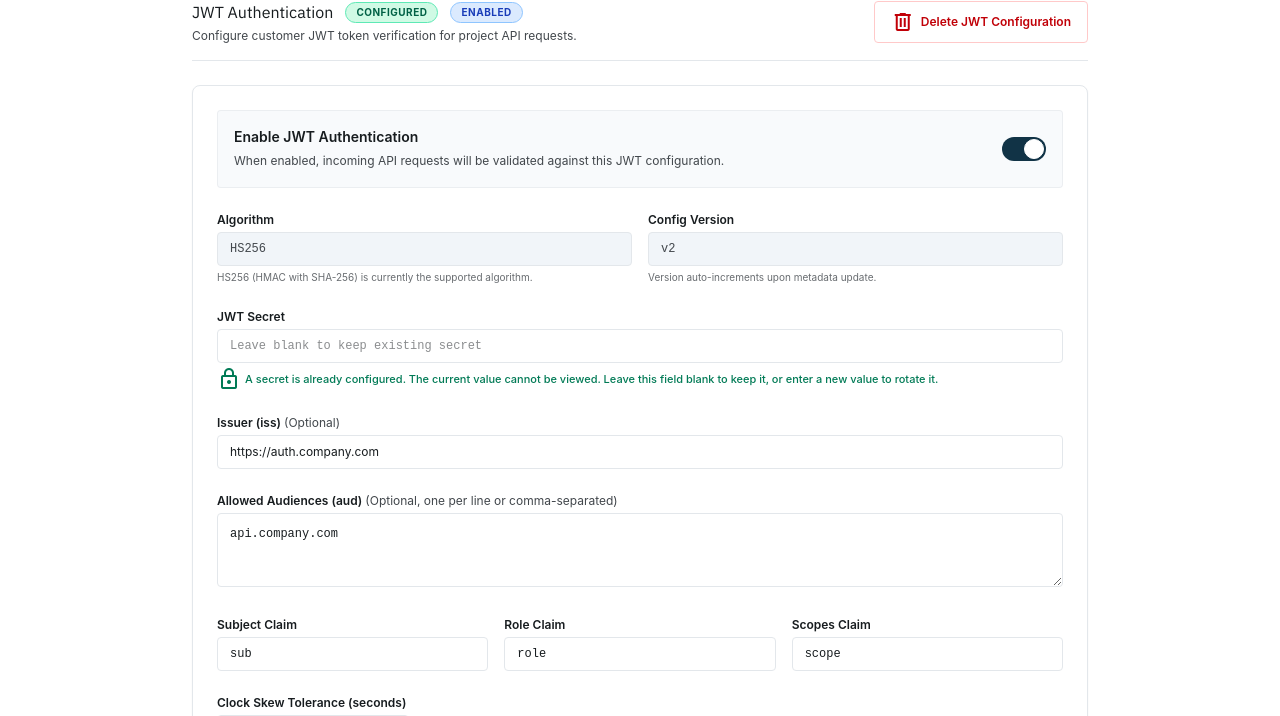
Test: ProjectJwtSecurityPage › 8. Secret input is cleared after successful save
The image size is (1280, 716).
expect the field showing "https://auth.company.com" is shown: met, box [217,435,1063,469]
Type "this-is-a-new-test-secret-at-least-32-bytes-long" into the password field labelled "JWT Secret".
click(640, 346); type("this-is-a-new-test-secret-at-least-32-bytes-long")  # box [217,329,1063,363]
(page scrolled)
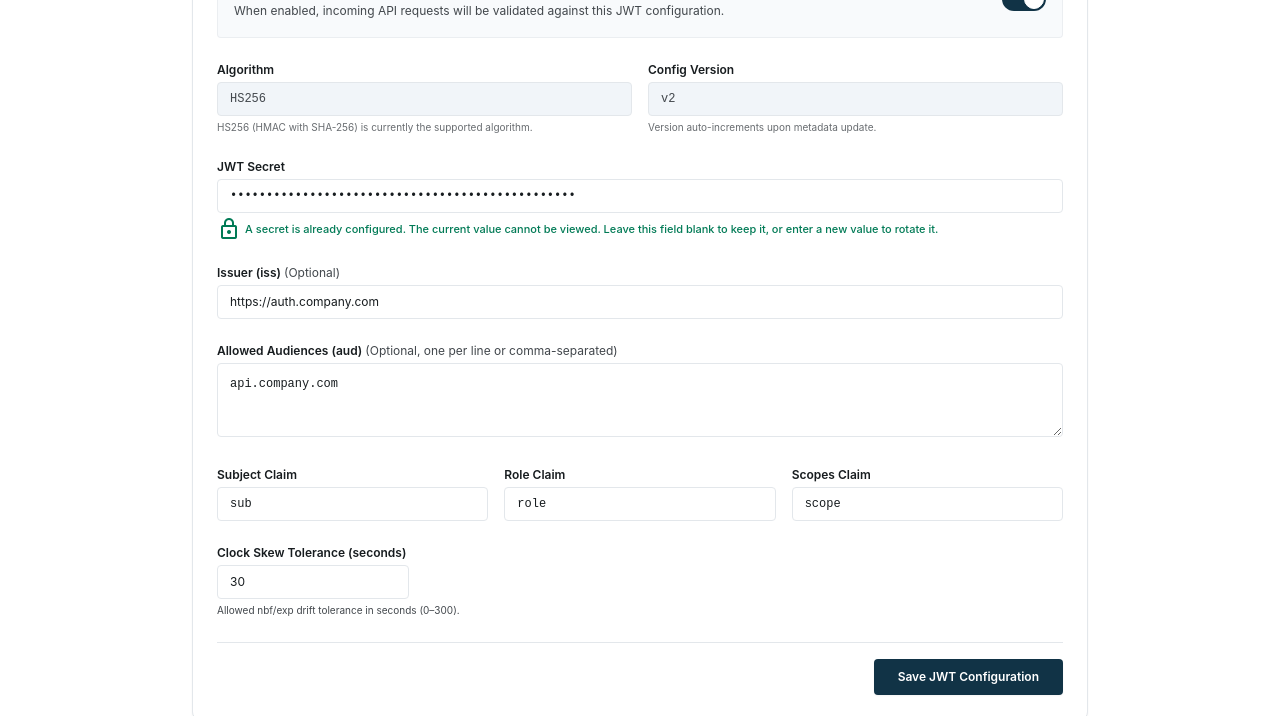
Click the button "Save JWT Configuration".
click(968, 677)  # box [874,659,1063,695]
(page scrolled)
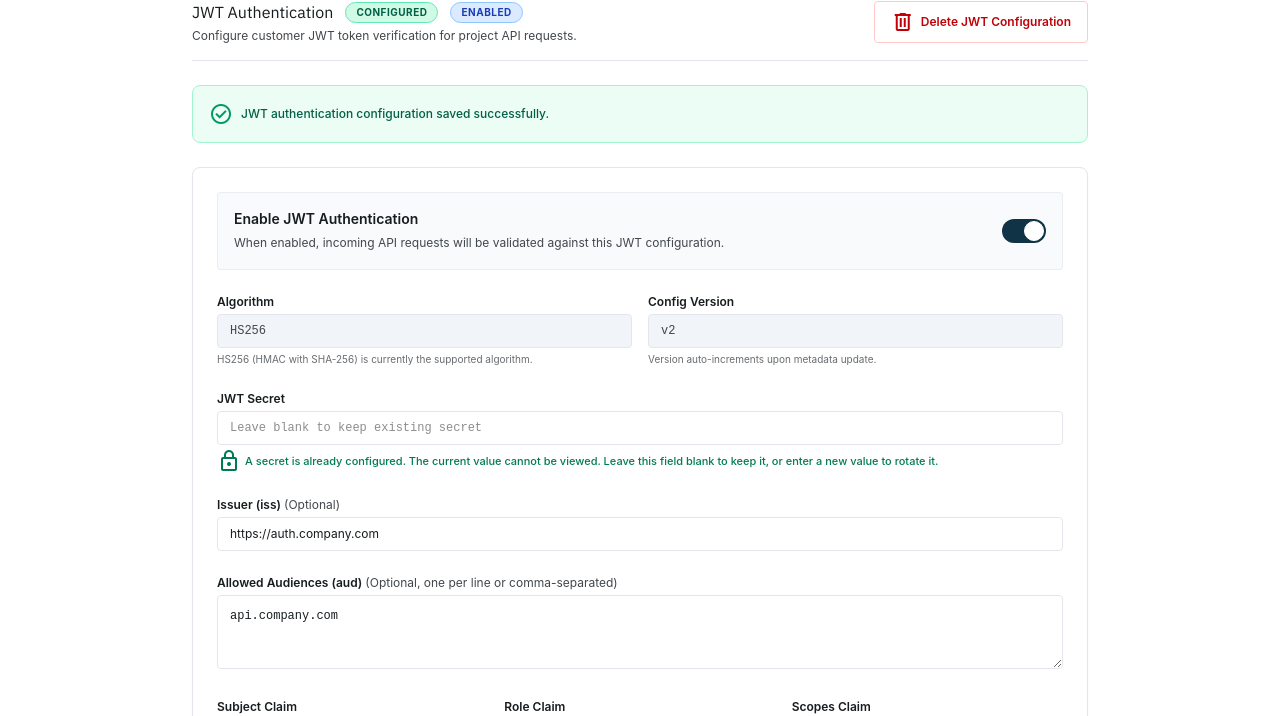
expect the password field labelled "JWT Secret" is empty: met, box [217,411,1063,445]
expect the text "JWT authentication configuration saved successfully." is shown: met, box [192,85,1088,143]
